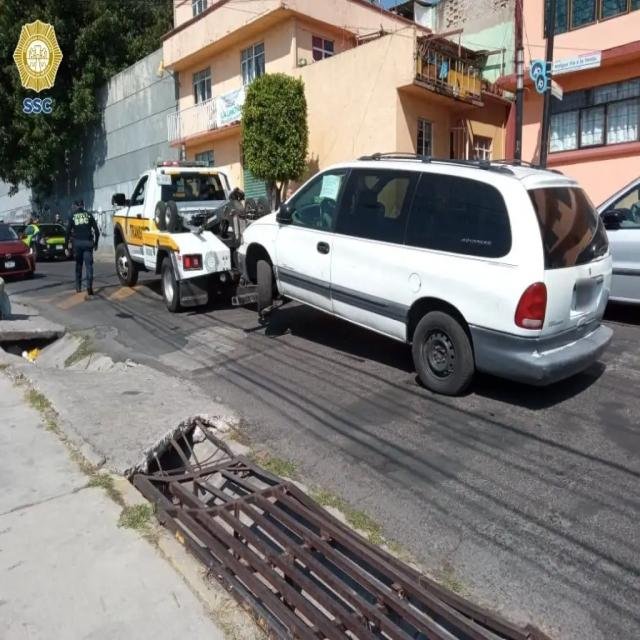CMT: (110, 157, 235, 311)
SUV: (240, 160, 610, 402)
